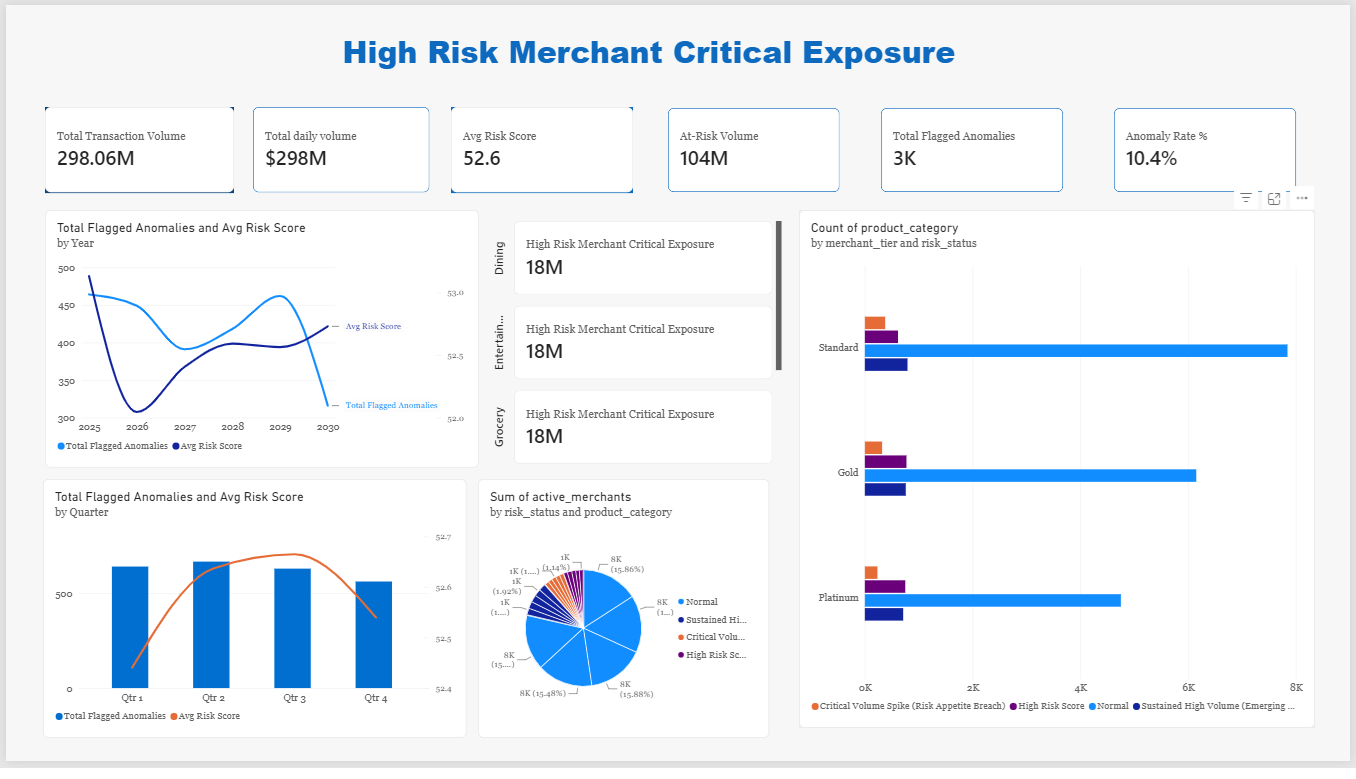

What the dashboard file says about the page in this screenshot:
{"tool":"powerbi","page":{"name":"Page 1","canvas":[1920,1080],"ordinal":0},"visuals":[{"type":"cardVisual","fields":{"Data":["data-risk_report.Total daily volume"]},"box":[352.5,145,252.5,122.5],"z":0},{"type":"cardVisual","fields":{"Data":["data-risk_report.Avg Risk Score"]},"box":[635,145,260,122.5],"z":1},{"type":"cardVisual","fields":{"Data":["data-risk_report.At-Risk Volume"]},"box":[945,147.5,245,120],"z":3},{"type":"cardVisual","fields":{"Data":["data-risk_report.Total Flagged Anomalies"]},"box":[1250,147.5,260,120],"z":4},{"type":"lineChart","fields":{"Category":["data-risk_report.trans_date.Variation.Date Hierarchy.Year","data-risk_report.trans_date.Variation.Date Hierarchy.Quarter","data-risk_report.trans_date.Variation.Date Hierarchy.Month","data-risk_report.trans_date.Variation.Date Hierarchy.Day"],"Y":["data-risk_report.Total Flagged Anomalies"],"Y2":["data-risk_report.Avg Risk Score"]},"box":[55,292.5,620,368],"z":5},{"type":"lineClusteredColumnComboChart","fields":{"Category":["data-risk_report.trans_date.Variation.Date Hierarchy.Year","data-risk_report.trans_date.Variation.Date Hierarchy.Quarter","data-risk_report.trans_date.Variation.Date Hierarchy.Month","data-risk_report.trans_date.Variation.Date Hierarchy.Day"],"Y":["data-risk_report.Total Flagged Anomalies"],"Y2":["data-risk_report.Avg Risk Score"]},"box":[52.5,677.5,605,370],"z":7},{"type":"textbox","box":[352,36,1134,96],"z":9},{"type":"cardVisual","fields":{"Data":["data-risk_report.Total Volume"]},"box":[55,145,270,122.5],"z":10},{"type":"cardVisual","fields":{"Data":["data-risk_report.Anomaly Rate %"]},"box":[1582.5,147.5,260,120],"z":12},{"type":"cardVisual","fields":{"Data":["data-risk_report.High Risk Merchant Critical Exposure"],"Rows":["data-risk_report.product_category"]},"box":[693.3,308.3,415,355],"z":13},{"type":"clusteredBarChart","fields":{"Category":["data-risk_report.merchant_tier"],"Series":["data-risk_report.risk_status"],"Y":["CountNonNull(data-risk_report.product_category)"]},"box":[1133.3,293.3,736.7,740],"z":14},{"type":"pieChart","fields":{"Category":["data-risk_report.risk_status"],"Series":["data-risk_report.product_category"],"Y":["Sum(data-risk_report.active_merchants)"]},"box":[675,677.5,416.2,370],"z":15}]}

Visuals, with their boxes in screenshot pixels (x1, y1, x2, y2), scaled from the page's 1920x1080 canvas onto the 1356x779 screenshot:
cardVisual - data-risk_report.Total daily volume: x1=249 y1=105 x2=427 y2=193
cardVisual - data-risk_report.Avg Risk Score: x1=448 y1=105 x2=632 y2=193
cardVisual - data-risk_report.At-Risk Volume: x1=667 y1=106 x2=840 y2=193
cardVisual - data-risk_report.Total Flagged Anomalies: x1=883 y1=106 x2=1066 y2=193
lineChart - data-risk_report.trans_date.Variation.Date Hierarchy.Year x data-risk_report.trans_date.Variation.Date Hierarchy.Quarter: x1=39 y1=211 x2=477 y2=476
lineClusteredColumnComboChart - data-risk_report.trans_date.Variation.Date Hierarchy.Year x data-risk_report.trans_date.Variation.Date Hierarchy.Quarter: x1=37 y1=489 x2=464 y2=756
textbox: x1=249 y1=26 x2=1049 y2=95
cardVisual - data-risk_report.Total Volume: x1=39 y1=105 x2=230 y2=193
cardVisual - data-risk_report.Anomaly Rate %: x1=1118 y1=106 x2=1301 y2=193
cardVisual - data-risk_report.High Risk Merchant Critical Exposure x data-risk_report.product_category: x1=490 y1=222 x2=783 y2=478
clusteredBarChart - data-risk_report.merchant_tier x data-risk_report.risk_status: x1=800 y1=212 x2=1321 y2=745
pieChart - data-risk_report.risk_status x data-risk_report.product_category: x1=477 y1=489 x2=771 y2=756
